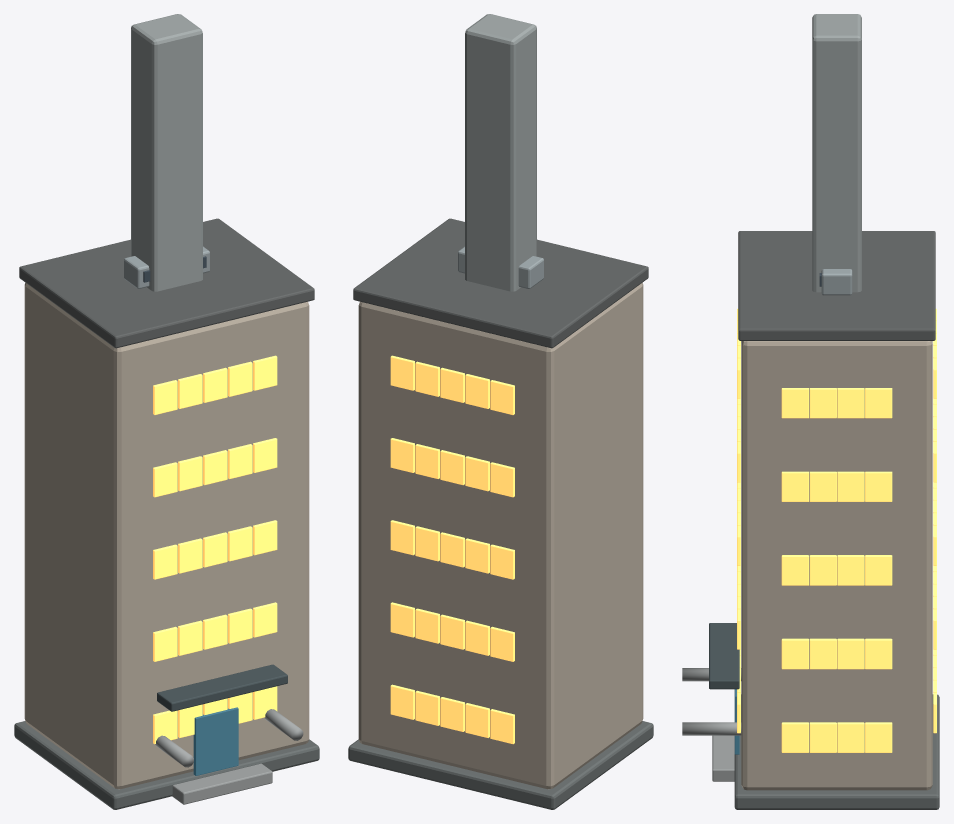
Rendered from civic_city_hall.glb.
The picture shows the model from 3 angles, left to right: view 1: azimuth 30°, elevation 25°; view 2: azimuth 150°, elevation 25°; view 3: azimuth 270°, elevation 25°; orthographic projection.
Visible parts, largest first — view 1: main_massing, civic_tower, roof_slab, foundation, civic_canopy, civic_entrance, civic_steps, front_window.012, front_window.017, front_window.005, front_window.007, front_window.009 (+22 smaller); view 2: main_massing, civic_tower, roof_slab, foundation, rear_window.012, rear_window, rear_window.017, rear_window.005, rear_window.007, rear_window.009, rear_window.010, rear_window.014 (+18 smaller); view 3: main_massing, roof_slab, civic_tower, foundation, civic_canopy, civic_steps, side_window.007, side_window.004, side_window.006, side_window.005, side_window.009, side_window.010 (+16 smaller).
Part boxes in pixels (x1,y1,x2,y2): main_massing: [24, 283, 309, 789]; civic_tower: [131, 14, 202, 291]; roof_slab: [19, 218, 314, 348]; foundation: [14, 721, 319, 809]; civic_canopy: [157, 664, 287, 711]; civic_entrance: [193, 707, 238, 775]; civic_steps: [172, 763, 272, 804]; front_window.012: [203, 532, 227, 567]; front_window.017: [203, 450, 227, 485]; front_window.005: [153, 626, 177, 661]; front_window.007: [203, 614, 227, 649]; front_window.009: [253, 602, 277, 637]; main_massing: [358, 283, 643, 789]; civic_tower: [465, 14, 536, 291]; roof_slab: [353, 218, 648, 348]; foundation: [348, 721, 653, 809]; rear_window.012: [440, 532, 464, 567]; rear_window: [490, 709, 514, 744]; rear_window.017: [440, 450, 464, 485]; rear_window.005: [490, 626, 514, 661]; rear_window.007: [440, 614, 464, 649]; rear_window.009: [390, 602, 414, 637]; rear_window.010: [490, 544, 514, 579]; rear_window.014: [390, 520, 414, 555]; main_massing: [741, 341, 932, 790]; roof_slab: [738, 231, 935, 340]; civic_tower: [812, 14, 861, 292]; foundation: [734, 694, 939, 809]; civic_canopy: [709, 623, 739, 689]; civic_steps: [712, 735, 734, 781]; side_window.007: [781, 638, 808, 669]; side_window.004: [865, 638, 892, 669]; side_window.006: [809, 638, 836, 669]; side_window.005: [837, 638, 864, 669]; side_window.009: [837, 555, 864, 585]; side_window.010: [809, 555, 836, 585].
Bounding box in the file's own units: 1.42 × 4.75 × 1.51.
